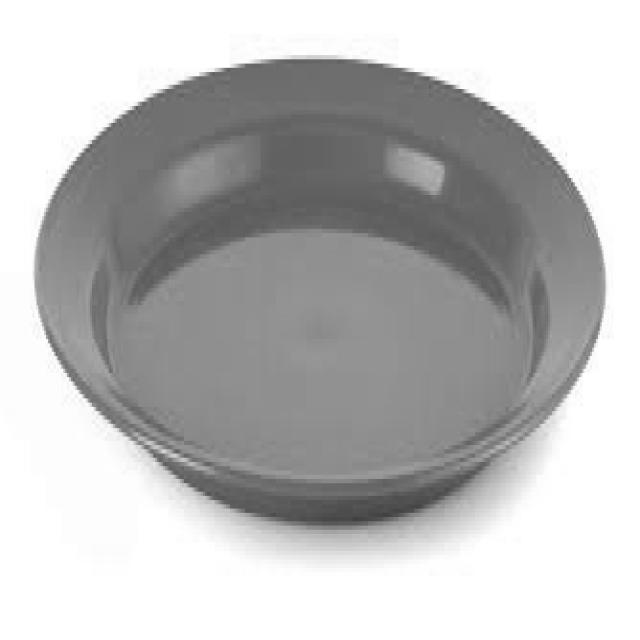dish: (25, 17, 630, 551)
